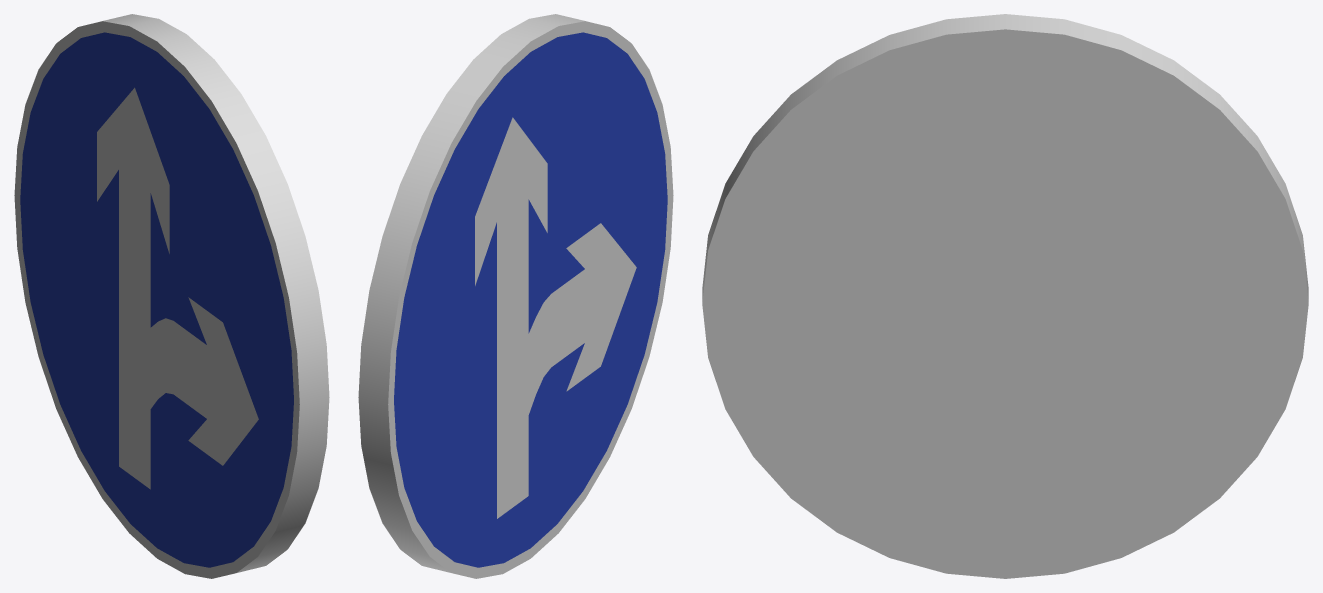
File: Straight_And_Turn_Right.fbx
3 renders of one model, left to right at view 1: azimuth 30°, elevation 25°; view 2: azimuth 150°, elevation 25°; view 3: azimuth 270°, elevation 25°, orthographic. The views are drawn at different scales.
Visible parts, largest first — view 1: Straight_And_Turn_Right; view 2: Straight_And_Turn_Right; view 3: Straight_And_Turn_Right.
Boxes of the visible parts, bbox=[...] form: Straight_And_Turn_Right: bbox=[14, 14, 329, 578]; Straight_And_Turn_Right: bbox=[358, 14, 673, 578]; Straight_And_Turn_Right: bbox=[702, 14, 1308, 578].
Bounding box in the file's own units: 0.0643 × 1 × 1.
